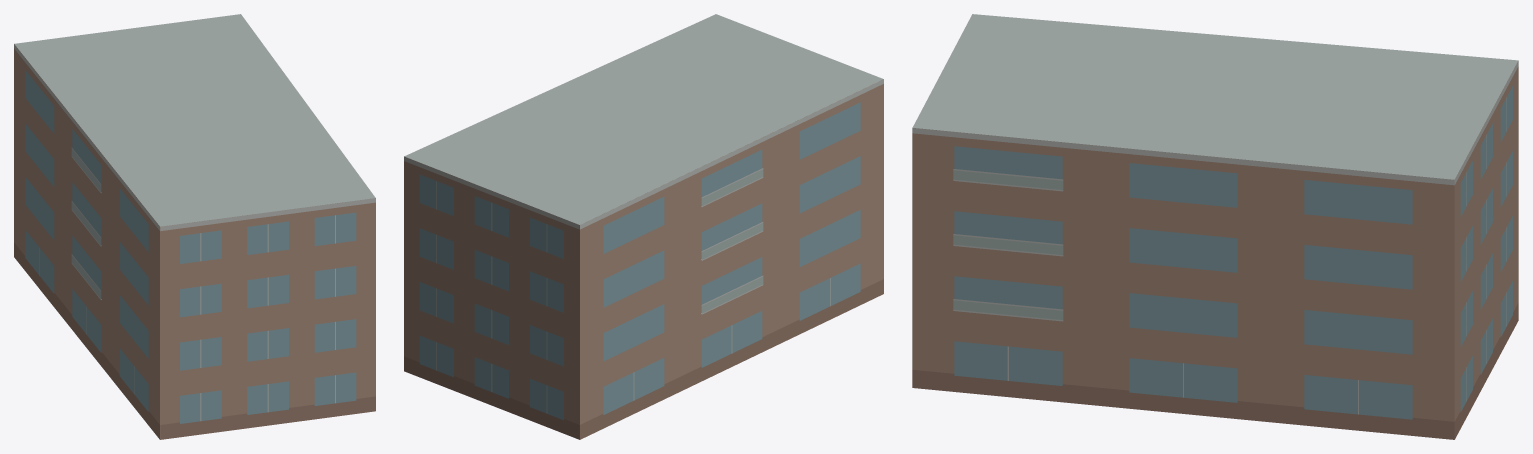
Rendered from survey-upis-32505557.glb.
The picture shows the model from 3 angles, left to right: view 1: azimuth 30°, elevation 25°; view 2: azimuth 150°, elevation 25°; view 3: azimuth 270°, elevation 25°; orthographic projection. The views are drawn at different scales.
Parts seen in each view (by area): view 1: survey-upis-32505557.tmp; view 2: survey-upis-32505557.tmp; view 3: survey-upis-32505557.tmp.
Boxes of the visible parts, x1=… form: survey-upis-32505557.tmp: x1=14, y1=14, x2=375, y2=439; survey-upis-32505557.tmp: x1=404, y1=14, x2=883, y2=439; survey-upis-32505557.tmp: x1=912, y1=14, x2=1518, y2=439.
Size of the model in its own units: 15.73 by 11.5 by 24.3.
